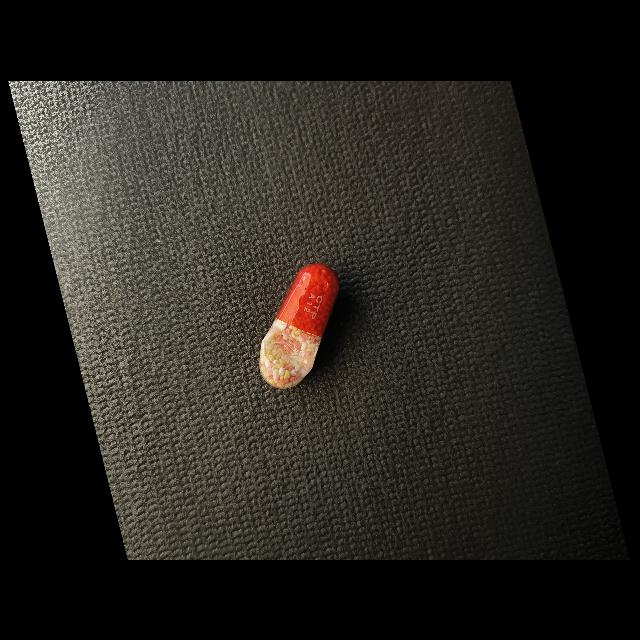Defective Capsule: (259, 263, 339, 388)
